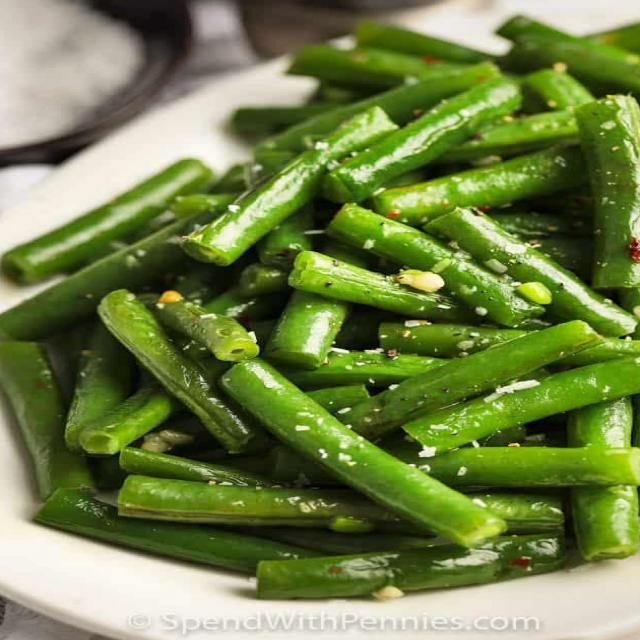Beans: (0, 0, 639, 608)
